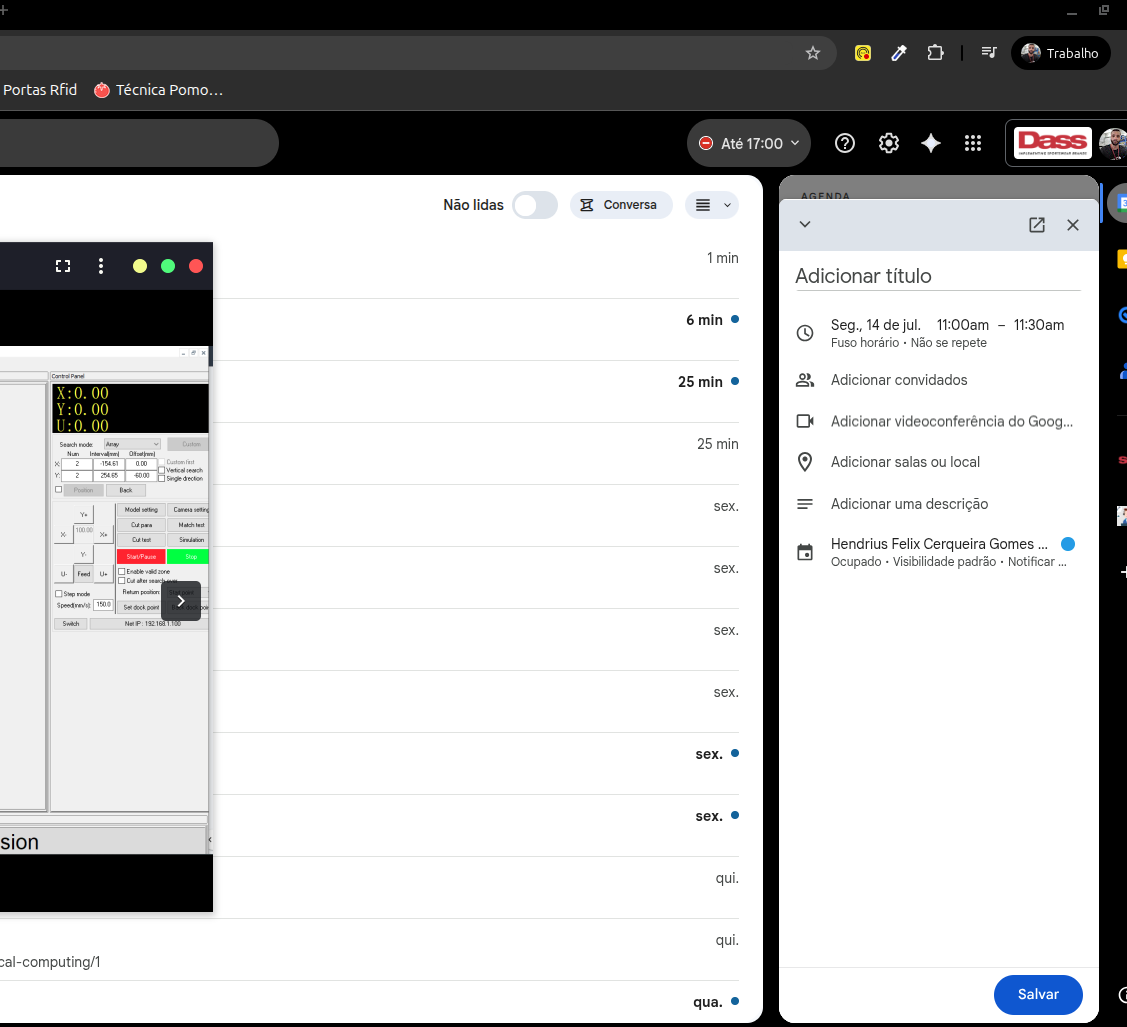start: (117, 547, 165, 564)
timer: (125, 449, 157, 481)
